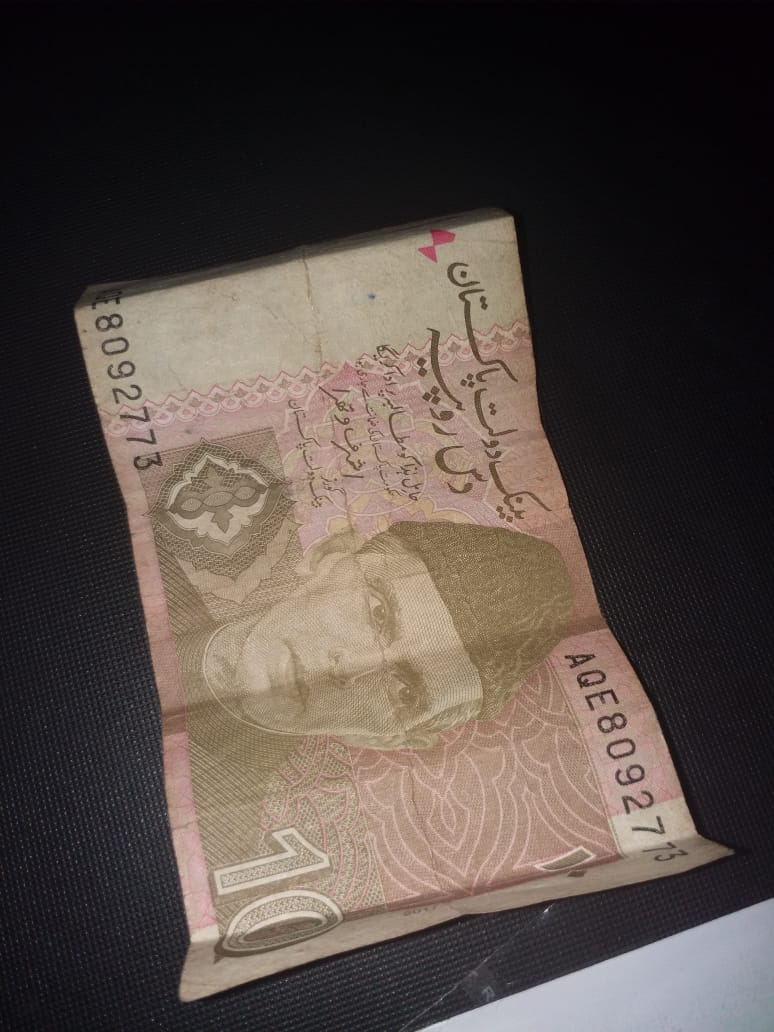10 rupee: (23, 213, 736, 997)
